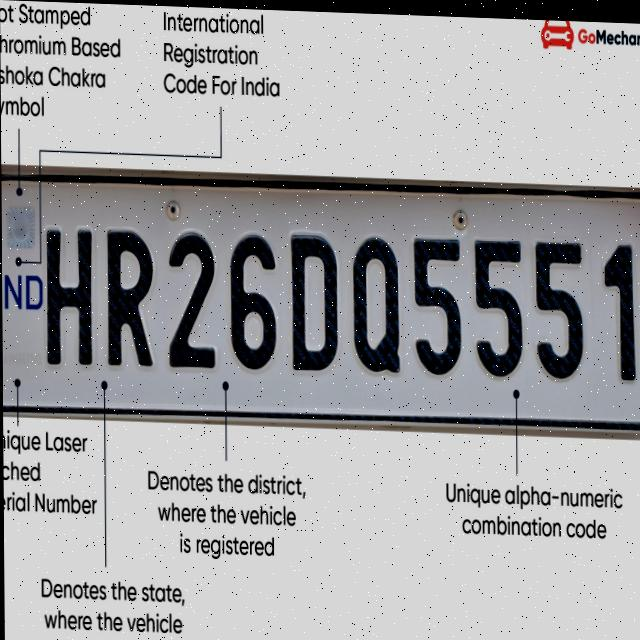plate: (1, 156, 640, 446)
